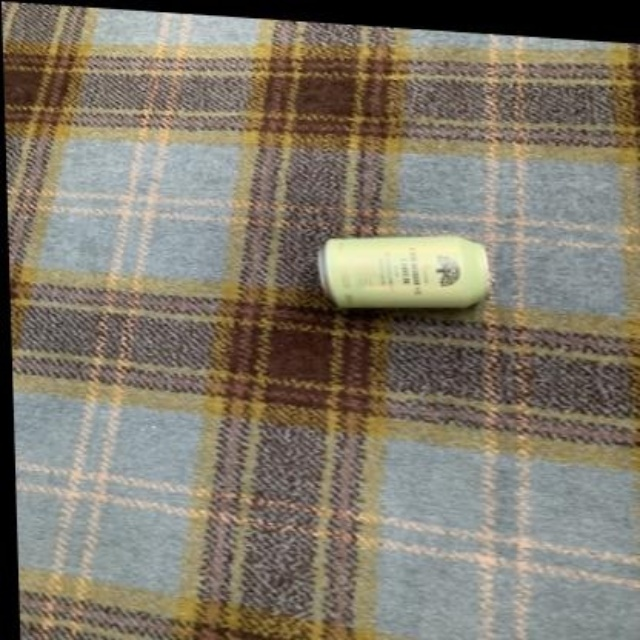trash: (318, 235, 489, 306)
